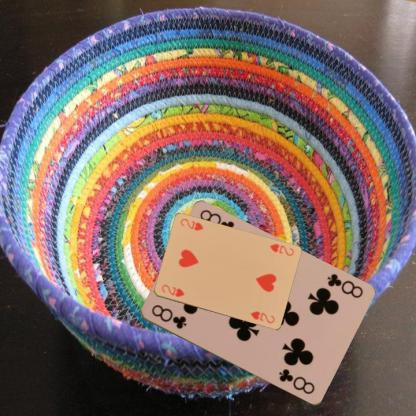2h: (267, 241, 295, 257), (159, 282, 185, 298)
8c: (148, 302, 188, 331), (324, 271, 364, 300)
